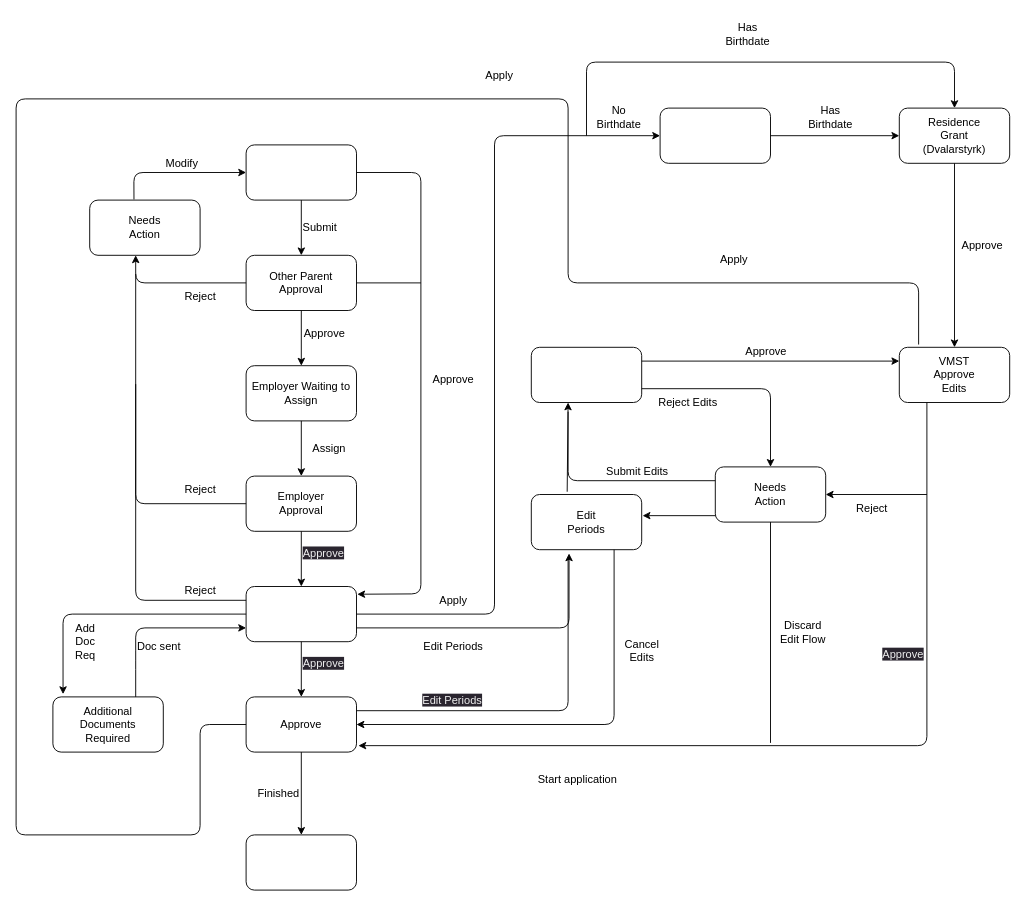
Image size: 1030x906. Some labels were removed from this diagram. The shapes that lost their labels are listed below. From the top down, each one's box as (x1, y1, x2, y2) in pixels, then its label:
(659, 107, 770, 163): Residence Grant No Birthdate (Dvalarstyrk)
(245, 144, 356, 200): Draft
(530, 346, 642, 402): Employer Approve Edits
(245, 586, 356, 642): VMST Approval
(245, 834, 356, 890): Close
